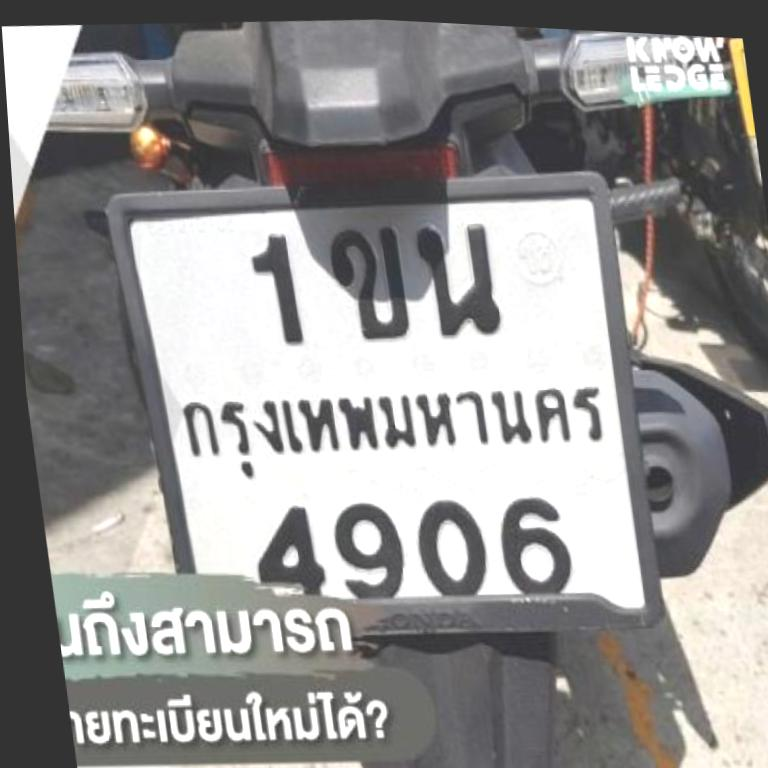license plate: (124, 197, 658, 628)
